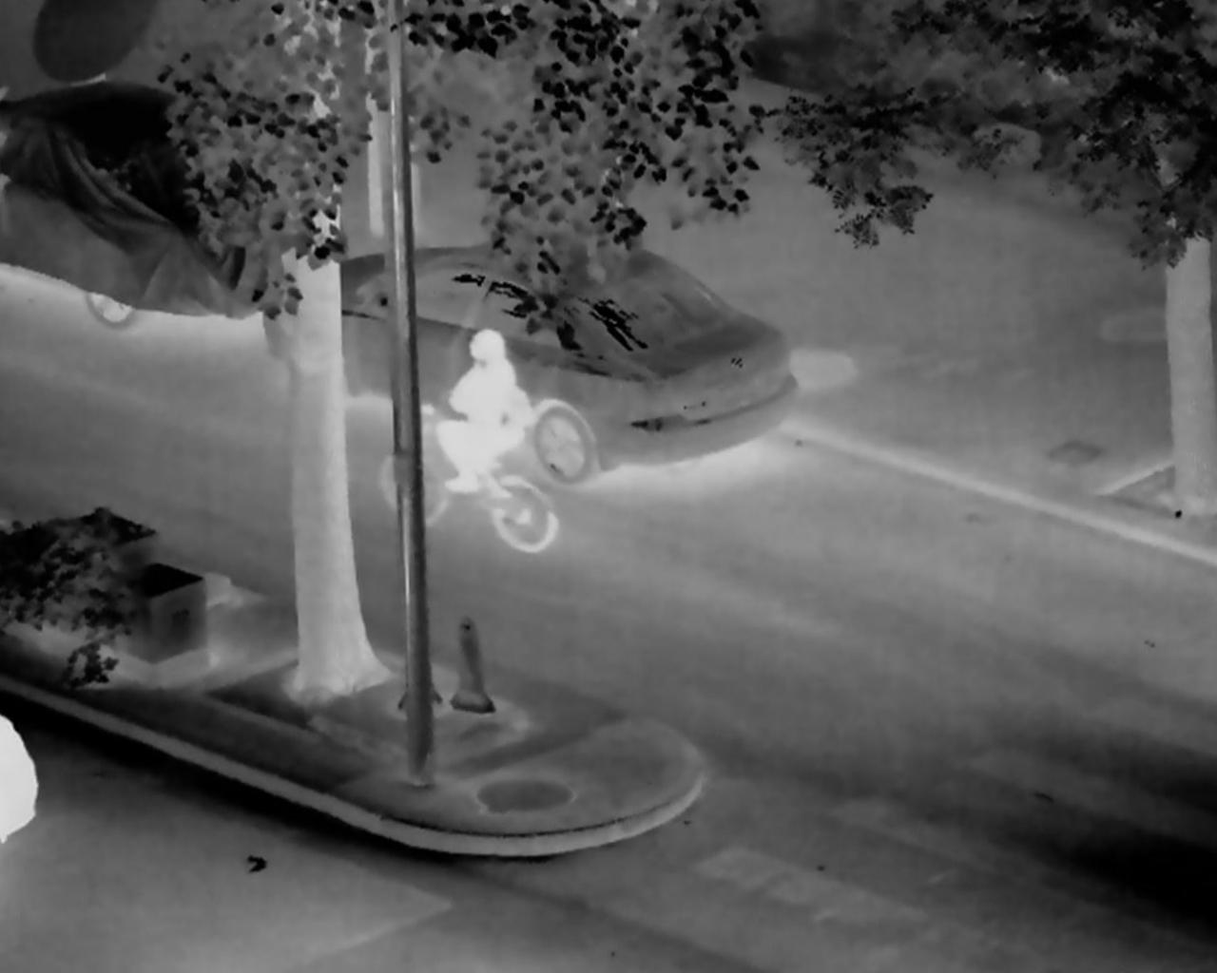person: (434, 330, 524, 495)
